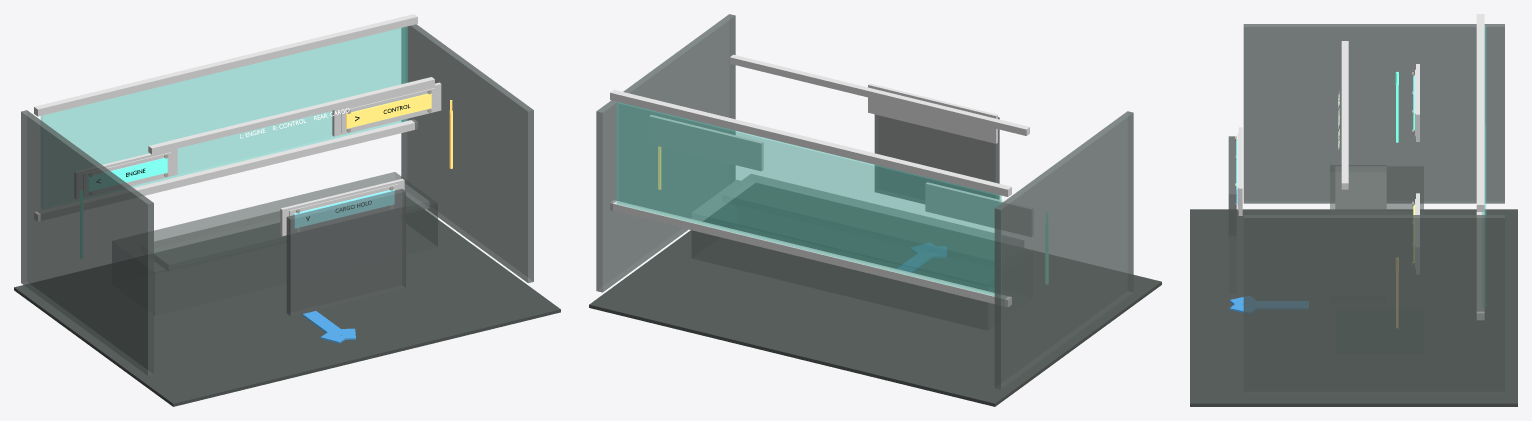
The model's file is ck_dir11.glb.
3 views of the same model, side by side, from view 1: azimuth 30°, elevation 25°; view 2: azimuth 150°, elevation 25°; view 3: azimuth 270°, elevation 25° (orthographic). The views are drawn at different scales.
Parts seen in each view (by area): view 1: player floor clearance proxy, front panoramic screen proxy, left cockpit wall proxy, right cockpit wall proxy, approved console body ghost, rear cargo threshold proxy, approved console top ghost, front screen frame top, front screen frame bottom, ceiling route label rail, rear cargo hold direction sign luminous label face, right control room direction sign luminous label face (+7 smaller); view 2: player floor clearance proxy, front panoramic screen proxy, left cockpit wall proxy, right cockpit wall proxy, approved console body ghost, approved console top ghost, rear cargo threshold proxy, front screen frame top, front screen frame bottom, right control room direction sign rear mounting rail, ceiling route label rail, left engine room direction sign rear mounting rail (+1 smaller); view 3: player floor clearance proxy, right cockpit wall proxy, left cockpit wall proxy, approved console body ghost, approved console top ghost, front screen frame top, rear cargo threshold proxy, ceiling route label rail, front screen frame bottom, front panoramic screen proxy, rear floor cargo arrow shaft, rear cargo hold direction sign rear mounting rail (+2 smaller).
Boxes of the visible parts, <box> form: player floor clearance proxy: <box>14,197,560,406</box>; front panoramic screen proxy: <box>40,26,407,187</box>; left cockpit wall proxy: <box>21,110,153,375</box>; right cockpit wall proxy: <box>401,24,533,283</box>; approved console body ghost: <box>154,172,437,315</box>; rear cargo threshold proxy: <box>286,189,405,316</box>; approved console top ghost: <box>154,183,429,271</box>; front screen frame top: <box>34,14,417,116</box>; front screen frame bottom: <box>34,119,417,221</box>; ceiling route label rail: <box>148,77,434,154</box>; rear cargo hold direction sign luminous label face: <box>294,189,394,228</box>; right control room direction sign luminous label face: <box>346,93,431,128</box>; player floor clearance proxy: <box>589,183,1161,406</box>; front panoramic screen proxy: <box>616,102,1001,295</box>; left cockpit wall proxy: <box>994,111,1133,389</box>; right cockpit wall proxy: <box>596,14,735,292</box>; approved console body ghost: <box>691,180,994,330</box>; approved console top ghost: <box>722,174,994,267</box>; rear cargo threshold proxy: <box>874,114,999,203</box>; front screen frame top: <box>610,89,1011,196</box>; front screen frame bottom: <box>610,200,1011,307</box>; right control room direction sign rear mounting rail: <box>649,115,763,171</box>; ceiling route label rail: <box>730,54,1029,135</box>; left engine room direction sign rear mounting rail: <box>925,182,1032,236</box>; player floor clearance proxy: <box>1190,209,1517,406</box>; right cockpit wall proxy: <box>1243,215,1504,394</box>; left cockpit wall proxy: <box>1243,24,1504,203</box>; approved console body ghost: <box>1335,166,1423,214</box>; approved console top ghost: <box>1330,165,1386,214</box>; front screen frame top: <box>1476,14,1484,211</box>; rear cargo threshold proxy: <box>1228,136,1236,293</box>; ceiling route label rail: <box>1341,41,1348,189</box>; front screen frame bottom: <box>1476,212,1484,320</box>; front panoramic screen proxy: <box>1482,25,1486,214</box>; rear floor cargo arrow shaft: <box>1245,301,1308,308</box>; rear cargo hold direction sign rear mounting rail: <box>1238,127,1242,215</box>.
Size of the model in its own units: 5.2 by 2.5 by 3.7.
